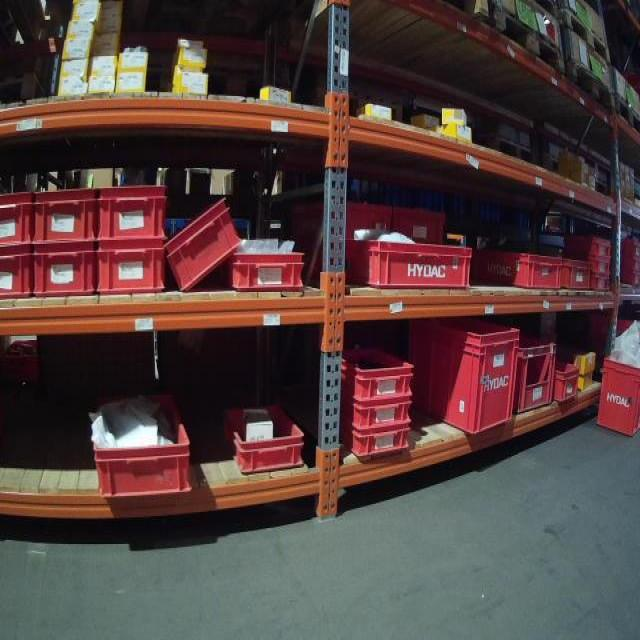pallet: (496, 6, 569, 80), (563, 62, 618, 121), (567, 7, 615, 59), (614, 87, 638, 145), (446, 0, 489, 25)
small_load_carrier: (399, 327, 519, 436), (91, 404, 191, 501), (169, 191, 246, 291), (338, 246, 472, 290), (336, 343, 418, 404), (233, 412, 303, 475), (474, 245, 562, 294), (96, 184, 169, 243), (30, 184, 96, 249), (594, 349, 640, 439), (94, 243, 169, 297), (516, 332, 560, 417), (229, 250, 308, 294), (30, 246, 96, 297), (340, 401, 422, 434), (340, 429, 419, 461), (333, 197, 397, 235), (1, 184, 32, 251), (394, 200, 448, 237), (1, 248, 33, 301), (560, 232, 614, 257), (558, 353, 581, 406), (556, 258, 590, 293), (617, 234, 640, 255), (586, 256, 610, 275), (592, 275, 614, 291), (620, 269, 638, 286), (616, 257, 639, 268)
